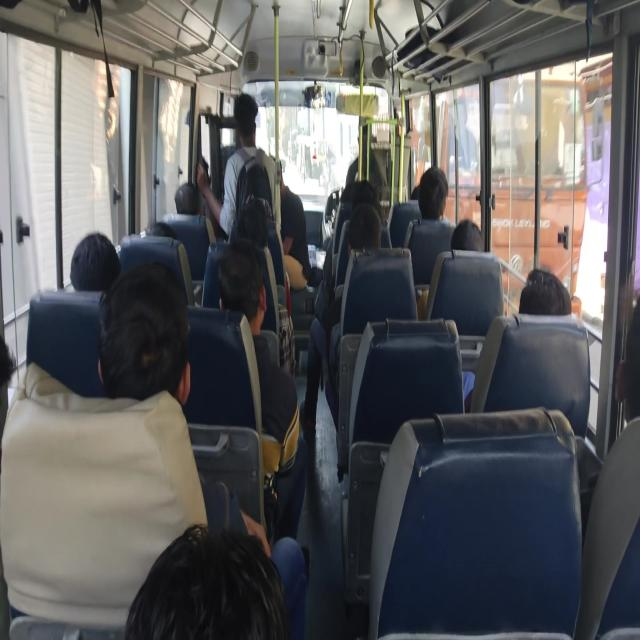person: (123, 496, 317, 640), (107, 256, 234, 463), (515, 255, 640, 405), (262, 137, 310, 298), (70, 235, 123, 323), (220, 241, 263, 331), (616, 303, 640, 452), (172, 167, 219, 226), (231, 97, 266, 172), (341, 203, 384, 260), (229, 199, 264, 267), (455, 210, 488, 256), (142, 220, 177, 260), (424, 158, 446, 213), (350, 174, 376, 212), (404, 170, 425, 198)
